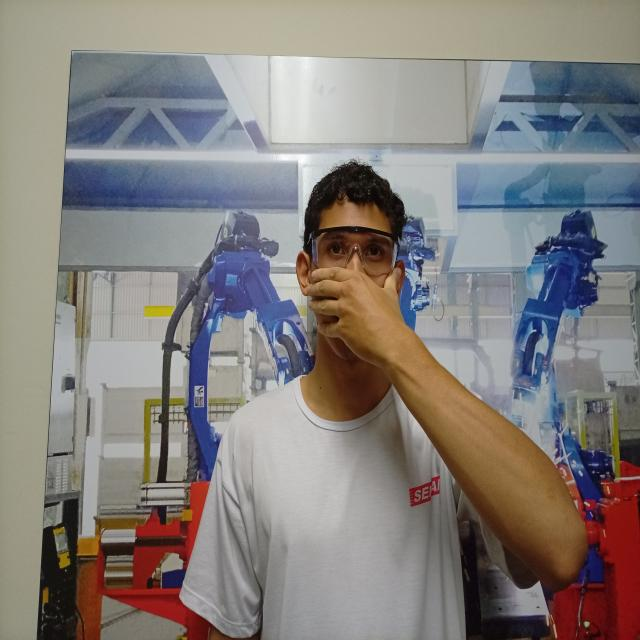oculos-epi: (312, 226, 398, 276)
